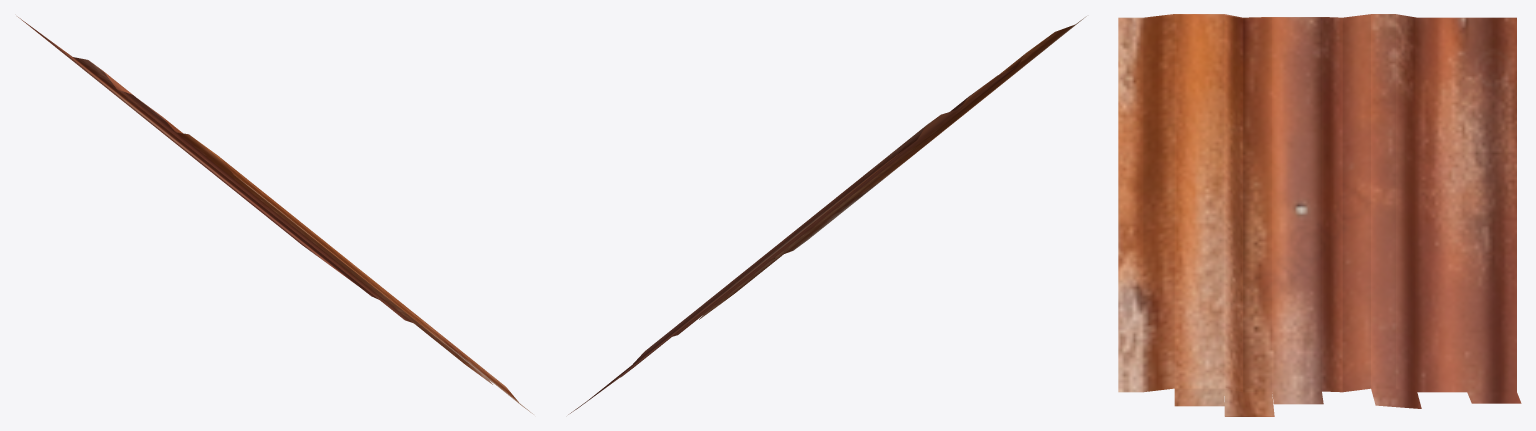
File: roof_v1.fbx
3 renders of one model, left to right at view 1: azimuth 30°, elevation 25°; view 2: azimuth 150°, elevation 25°; view 3: azimuth 270°, elevation 25°, orthographic. The views are drawn at different scales.
Visible parts, largest first — view 1: Plane.006; view 2: Plane.006; view 3: Plane.006.
Part boxes in pixels (<box>): Plane.006: <box>17,16,533,414</box>; Plane.006: <box>568,16,1086,414</box>; Plane.006: <box>1118,14,1521,416</box>.
Size of the model in its own units: 151 by 153 by 202.
